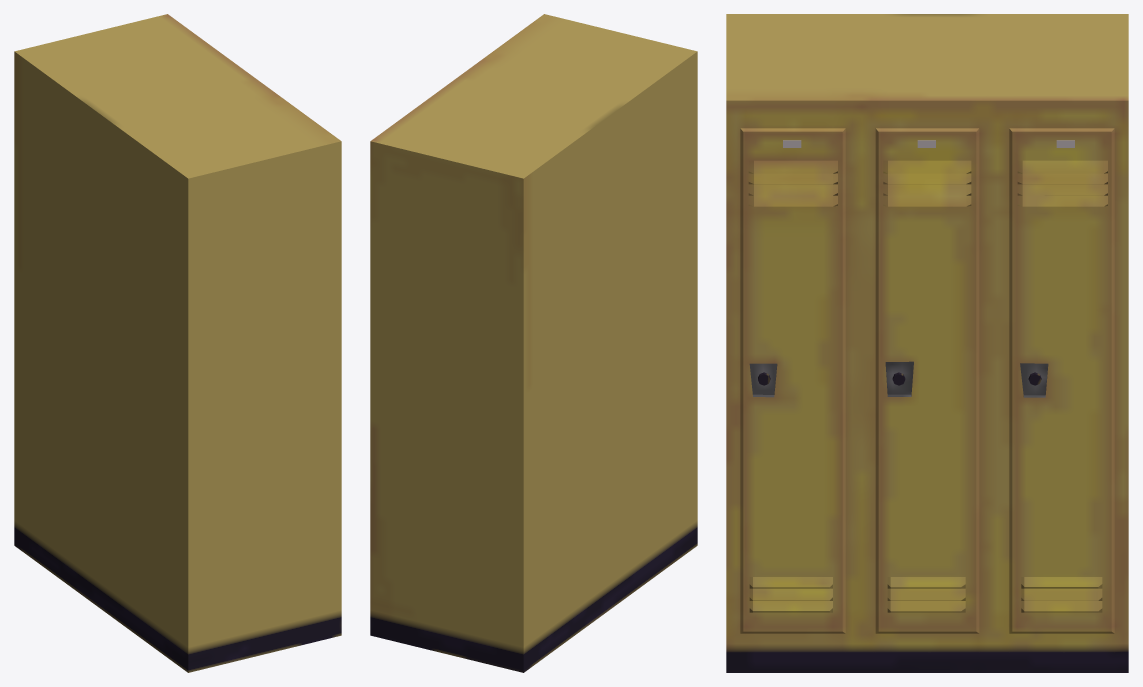
File: School locker1.fbx
3 renders of one model, left to right at view 1: azimuth 30°, elevation 25°; view 2: azimuth 150°, elevation 25°; view 3: azimuth 270°, elevation 25°, orthographic. The views are drawn at different scales.
Parts seen in each view (by area): view 1: School locker1; view 2: School locker1; view 3: School locker1.
Part boxes in pixels (x1,y1,x2,y2): School locker1: (14, 14, 341, 672); School locker1: (370, 14, 697, 672); School locker1: (726, 14, 1128, 672).
Bounding box in the file's own units: 291 × 875 × 558.
1 material, 1 textured.
